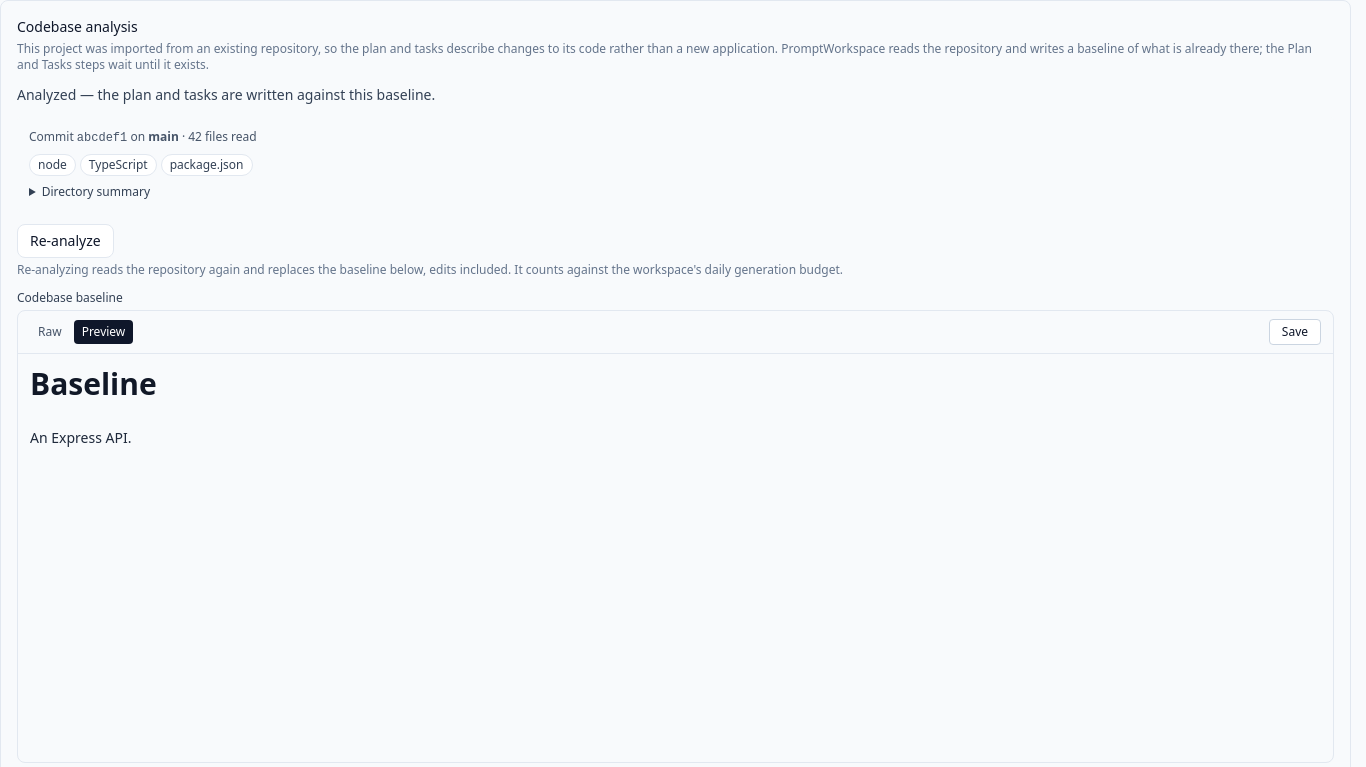
Test case: CodebaseAnalysisPanel › explains a refused analysis in words, not a detail code
The width and height of the screenshot is (1366, 767).
Click the button "Re-analyze": (65, 241) [17, 224, 114, 258]
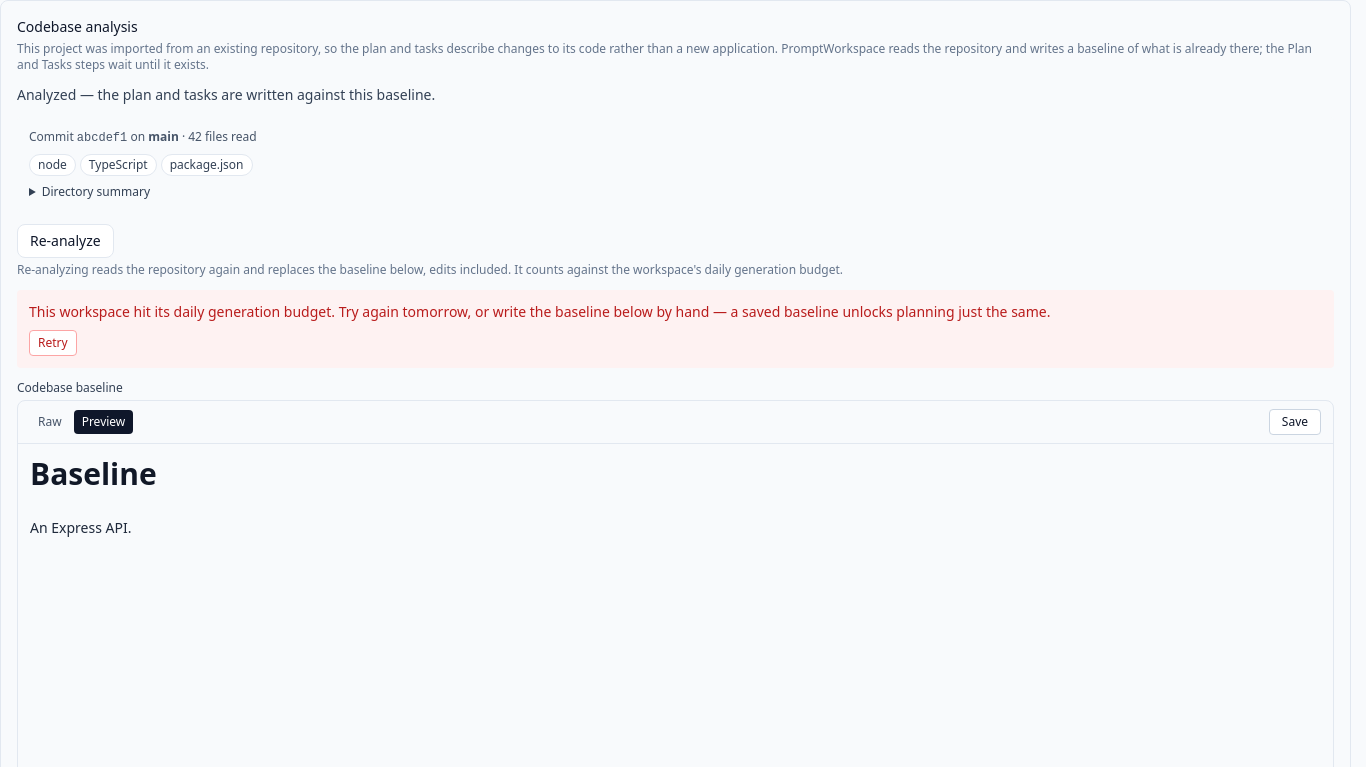
Expected: the text "daily generation budget. Try again tomorrow" is shown, [29, 302, 1050, 321]
